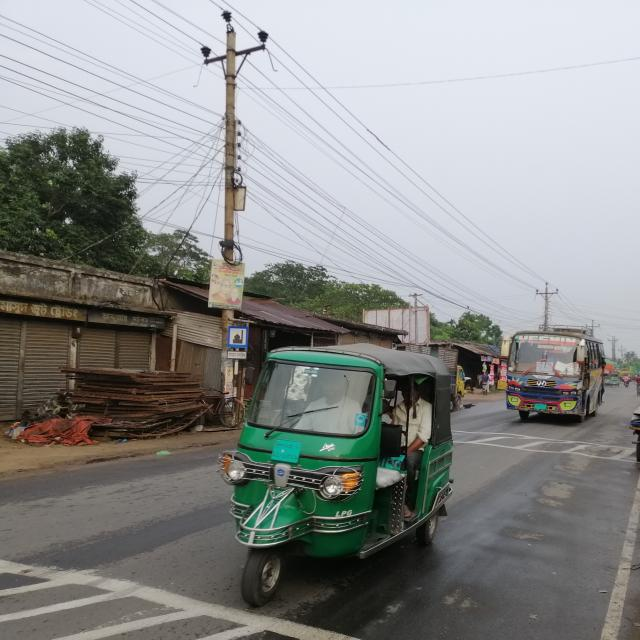Bus: (503, 319, 610, 426)
